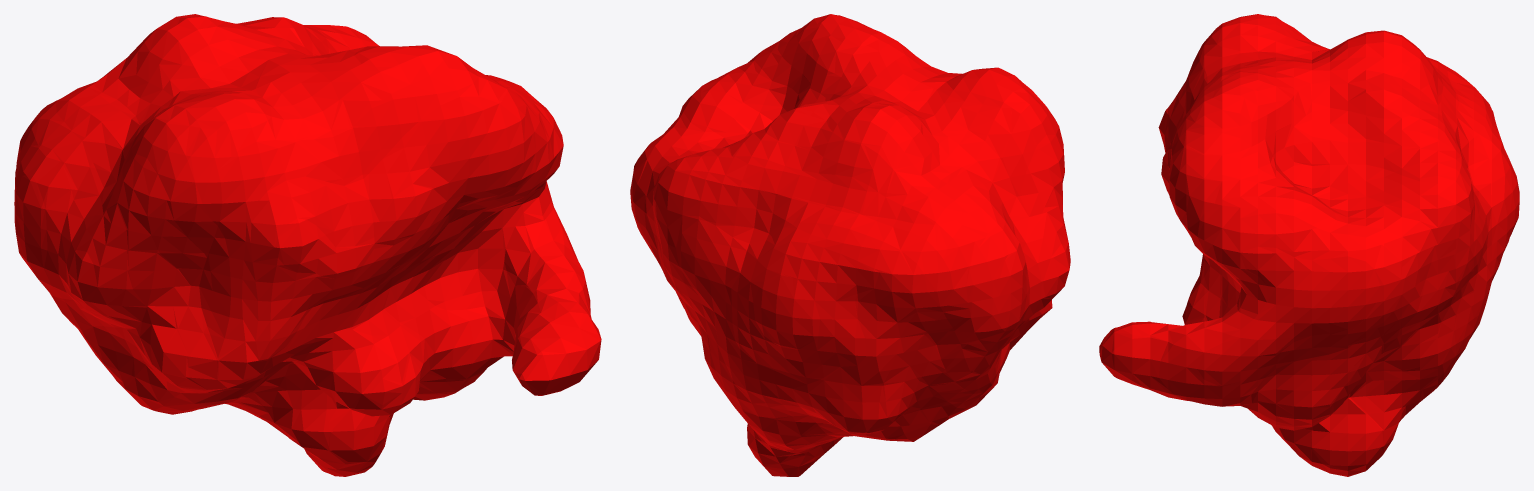
File: aroH_coarse.dae
3 renders of one model, left to right at view 1: azimuth 30°, elevation 25°; view 2: azimuth 150°, elevation 25°; view 3: azimuth 270°, elevation 25°, orthographic. The views are drawn at different scales.
Parts seen in each view (by area): view 1: aroH; view 2: aroH; view 3: aroH.
Boxes of the visible parts, x1=… form: aroH: x1=14, y1=14, x2=601, y2=476; aroH: x1=630, y1=14, x2=1070, y2=476; aroH: x1=1099, y1=14, x2=1519, y2=476.
Size of the model in its own units: 58.65 by 56.49 by 54.97.
